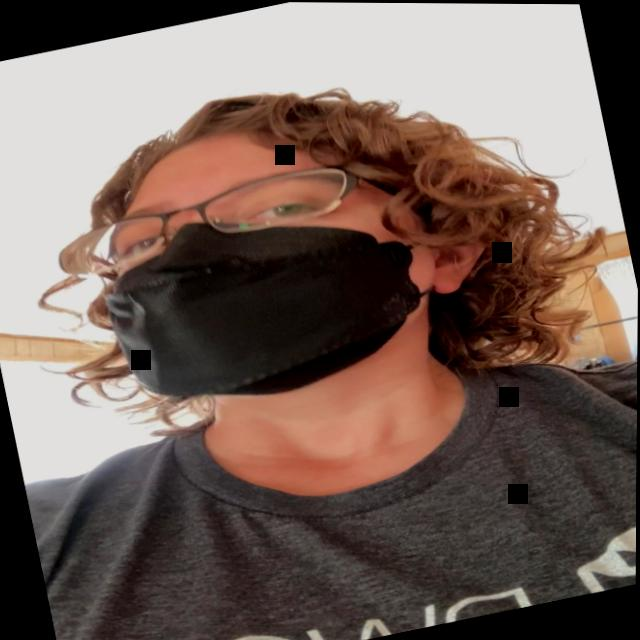Mask: (77, 99, 468, 428)
